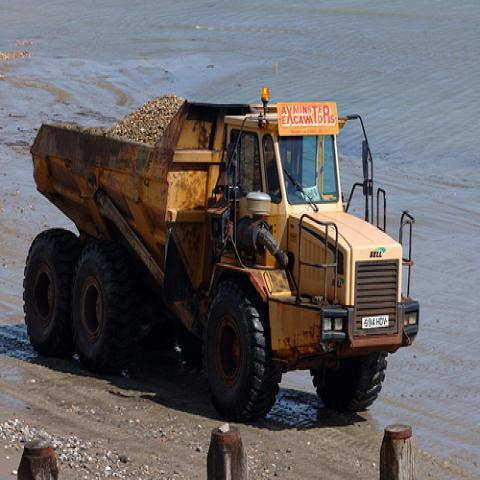truck: (21, 89, 421, 424)
